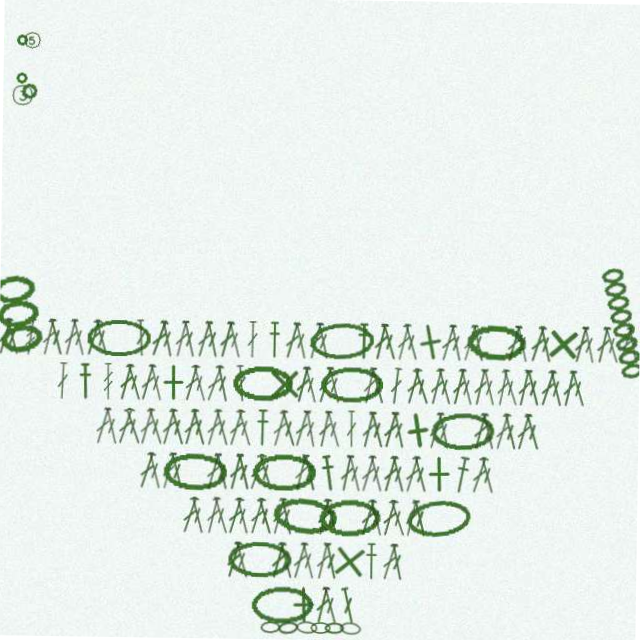chain: (408, 495, 476, 539), (274, 495, 341, 538), (309, 321, 375, 361), (321, 498, 385, 536), (165, 454, 229, 492), (432, 410, 496, 448), (466, 321, 528, 360), (231, 542, 296, 579), (87, 322, 152, 359), (254, 454, 318, 491), (255, 586, 317, 624), (321, 366, 384, 403), (233, 366, 295, 403), (344, 621, 366, 635), (282, 621, 303, 635), (301, 621, 322, 634), (265, 622, 285, 634), (315, 622, 335, 634), (329, 622, 349, 634)
double: (389, 498, 412, 536), (248, 454, 271, 492), (470, 454, 493, 492), (123, 410, 146, 448), (204, 366, 227, 404), (411, 366, 434, 404), (500, 366, 523, 404), (148, 322, 171, 360), (382, 542, 404, 580), (182, 498, 204, 536), (213, 498, 235, 536), (227, 498, 249, 536), (249, 498, 271, 536), (257, 498, 279, 536), (360, 498, 382, 536), (138, 454, 160, 492), (257, 454, 279, 492), (116, 410, 138, 448), (146, 410, 168, 448), (168, 410, 190, 448), (227, 410, 249, 448), (235, 410, 257, 448), (279, 410, 301, 448), (324, 410, 346, 448), (493, 410, 515, 448), (523, 410, 545, 448), (124, 366, 146, 404), (538, 366, 560, 404), (568, 366, 590, 404), (83, 322, 105, 360), (91, 322, 113, 360), (527, 322, 549, 360), (601, 322, 623, 360), (615, 322, 637, 360), (324, 586, 345, 624), (227, 542, 248, 580), (235, 542, 256, 580), (279, 542, 300, 580), (293, 542, 314, 580), (301, 542, 322, 580), (190, 498, 211, 536), (235, 498, 256, 536), (324, 498, 345, 536), (382, 498, 403, 536), (205, 454, 226, 492), (360, 454, 381, 492), (368, 454, 389, 492), (382, 454, 403, 492), (390, 454, 411, 492), (404, 454, 425, 492), (412, 454, 433, 492), (479, 454, 500, 492), (94, 410, 115, 448), (138, 410, 159, 448), (160, 410, 181, 448), (182, 410, 203, 448), (190, 410, 211, 448), (205, 410, 226, 448), (213, 410, 234, 448), (271, 410, 292, 448), (293, 410, 314, 448), (368, 410, 389, 448), (382, 410, 403, 448), (427, 410, 448, 448), (515, 410, 536, 448), (138, 366, 159, 404), (182, 366, 203, 404), (190, 366, 211, 404), (301, 366, 322, 404), (316, 366, 337, 404), (368, 366, 389, 404), (404, 366, 425, 404), (435, 366, 456, 404), (457, 366, 478, 404), (2, 322, 23, 360), (46, 322, 67, 360), (194, 322, 215, 360), (282, 322, 303, 360), (379, 322, 400, 360), (401, 322, 422, 360), (438, 322, 459, 360), (460, 322, 481, 360), (504, 322, 525, 360), (571, 322, 592, 360), (272, 542, 292, 580), (206, 498, 226, 536), (272, 498, 292, 536), (317, 498, 337, 536), (369, 498, 389, 536), (413, 498, 433, 536), (147, 454, 167, 492), (161, 454, 181, 492), (169, 454, 189, 492), (214, 454, 234, 492), (228, 454, 248, 492), (236, 454, 256, 492), (302, 454, 322, 492), (347, 454, 367, 492), (103, 410, 123, 448), (472, 410, 492, 448), (480, 410, 500, 448), (502, 410, 522, 448), (117, 366, 137, 404), (147, 366, 167, 404), (294, 366, 314, 404), (325, 366, 345, 404), (428, 366, 448, 404), (450, 366, 470, 404), (480, 366, 500, 404), (524, 366, 544, 404), (547, 366, 567, 404), (39, 322, 59, 360), (61, 322, 81, 360), (69, 322, 89, 360), (172, 322, 192, 360), (217, 322, 237, 360), (225, 322, 245, 360), (291, 322, 311, 360), (306, 322, 326, 360), (394, 322, 414, 360), (536, 322, 556, 360), (317, 586, 336, 624), (343, 586, 362, 624), (317, 542, 336, 580), (325, 542, 344, 580), (391, 542, 410, 580), (280, 498, 299, 536), (405, 498, 424, 536), (294, 454, 313, 492), (317, 410, 336, 448), (361, 410, 380, 448), (391, 410, 410, 448), (436, 410, 455, 448), (214, 366, 233, 404), (361, 366, 380, 404), (472, 366, 491, 404), (516, 366, 535, 404), (561, 366, 580, 404), (158, 322, 177, 360), (180, 322, 199, 360), (203, 322, 222, 360), (314, 322, 333, 360), (372, 322, 391, 360), (447, 322, 466, 360), (469, 322, 488, 360), (513, 322, 532, 360), (580, 322, 599, 360), (594, 322, 613, 360), (340, 454, 358, 492), (303, 410, 321, 448), (495, 366, 513, 404), (389, 366, 405, 404), (0, 322, 16, 360), (624, 322, 640, 360), (235, 366, 249, 403), (57, 366, 70, 403), (135, 322, 148, 359), (347, 410, 359, 447), (247, 322, 259, 359)
enseble_chain: (597, 261, 640, 379), (0, 276, 48, 363)
half_double: (454, 454, 474, 492), (321, 454, 340, 492), (368, 542, 382, 579), (257, 410, 271, 447), (79, 366, 93, 403), (268, 322, 282, 359), (357, 322, 371, 359)
noise: (7, 87, 32, 112), (16, 85, 37, 106), (18, 34, 38, 54), (12, 76, 25, 89), (12, 38, 25, 51)
single: (409, 319, 452, 362), (398, 408, 440, 450), (333, 541, 373, 581), (544, 321, 583, 360), (289, 586, 327, 624), (423, 454, 460, 491), (156, 366, 193, 403), (267, 366, 304, 403)
treble: (23, 322, 39, 360), (103, 366, 115, 403)
